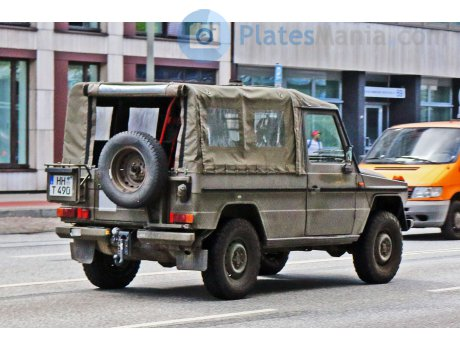License Plates: (47, 178, 69, 193)
